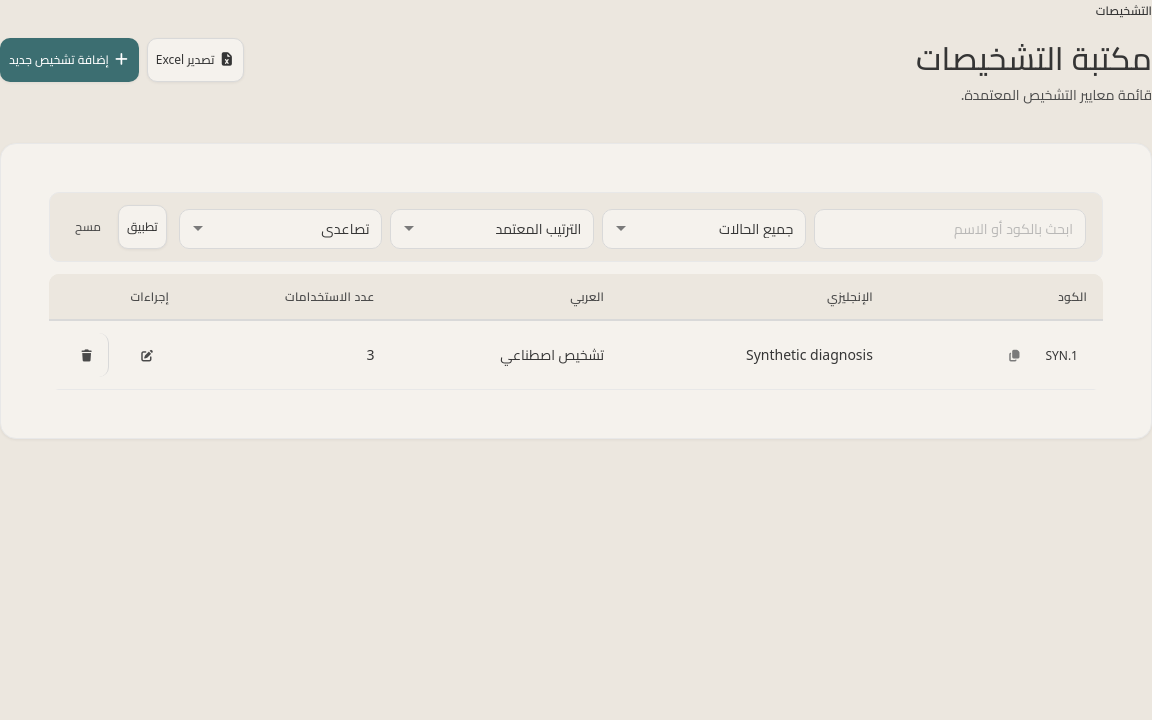
Test case: diagnoses actual list and modal CRUD › editing is reachable and sends the opening version and all owned fields
The width and height of the screenshot is (1152, 720).
Click the button titled "تعديل" at (147, 355), box [125,333,169,377]
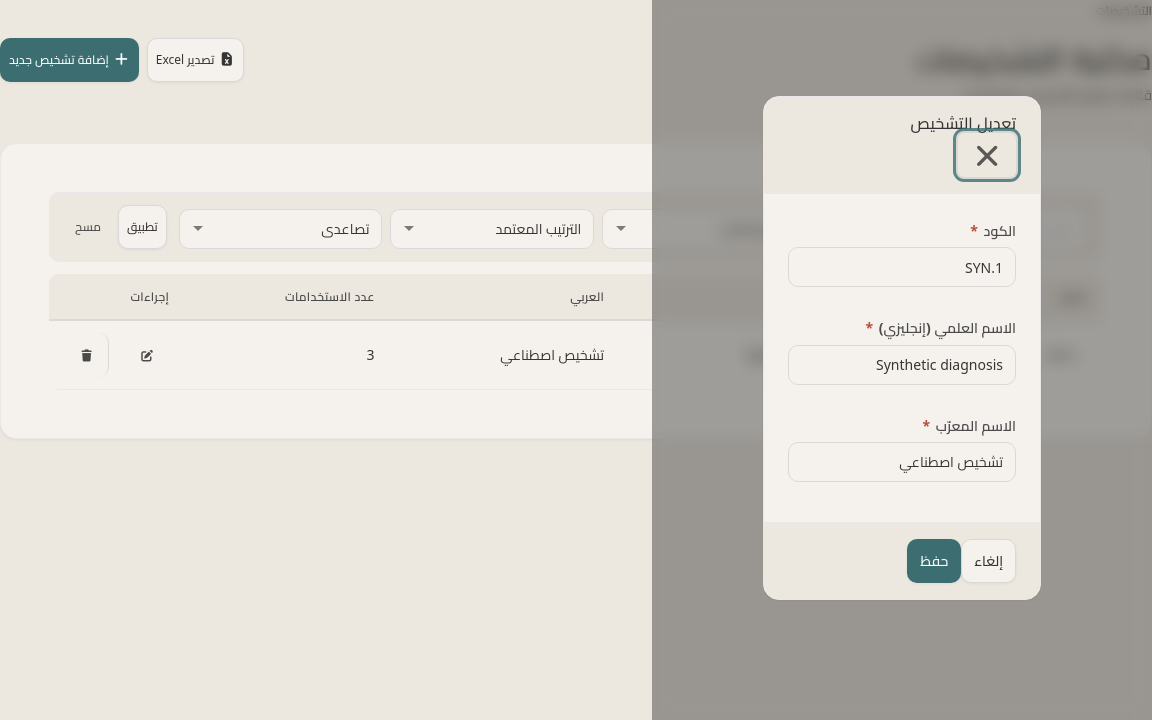
Check: the field with id "diagEnglish" holds "Synthetic diagnosis"
Replace the text in the field with id "diagEnglish" with "Synthetic revised" at (902, 365), box [788,345,1016,385]
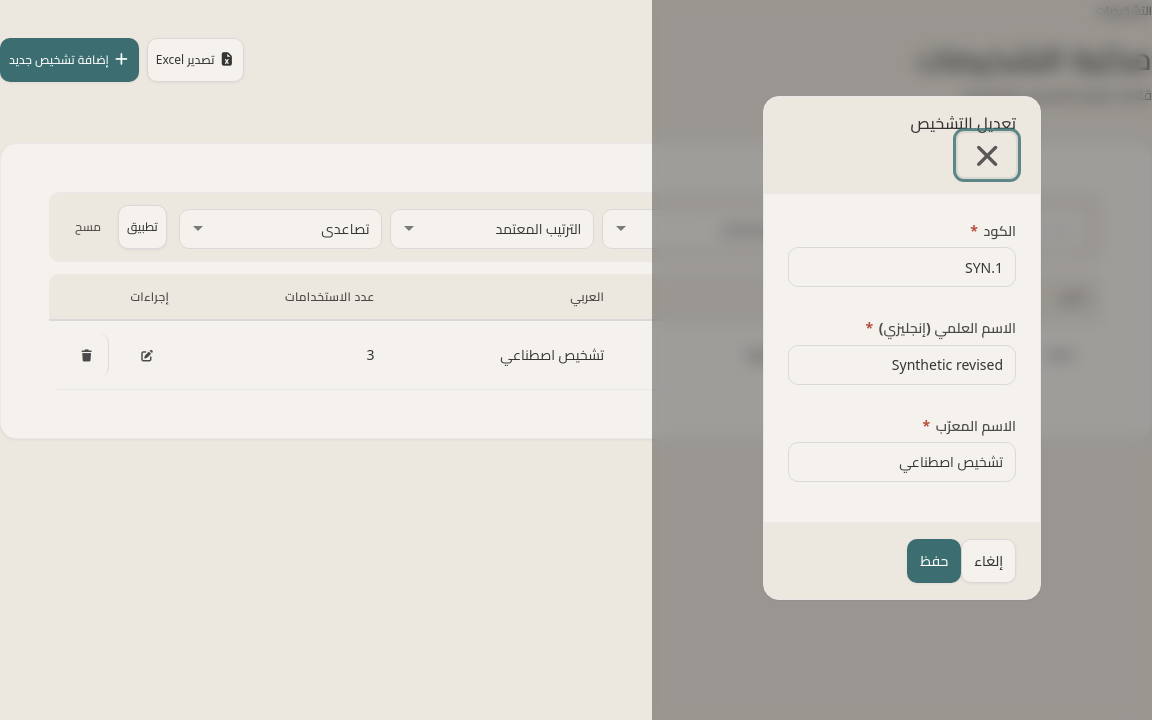
Click the button with class "btn--primary" showing "حفظ" at (934, 561), box [907,539,961,583]
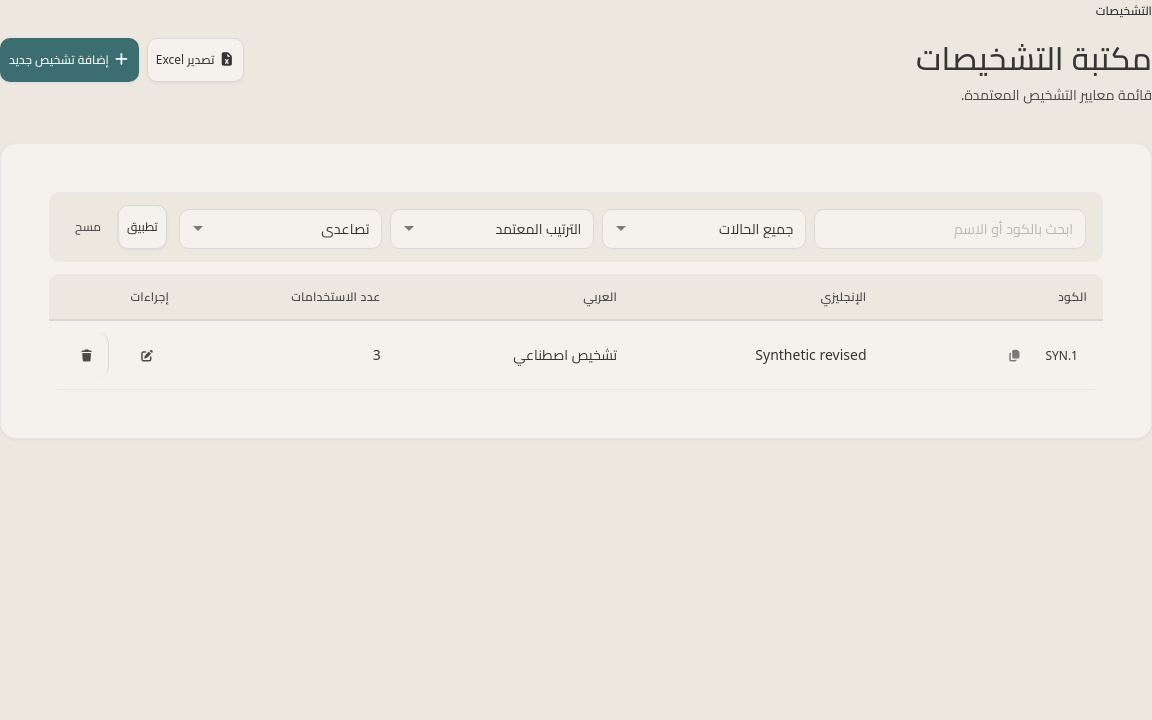
Check: the dialog is gone
Check: the table shows "Synthetic revised", box [755,346,866,364]
